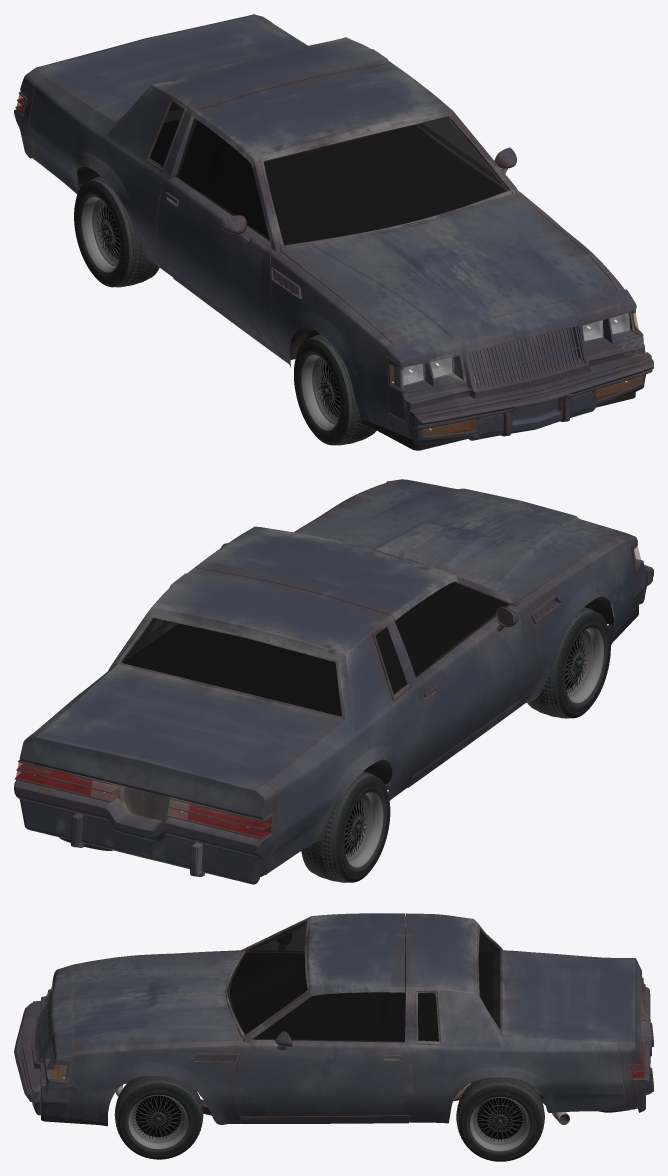
Rendered from 1987_buick_grand_national_regal_gnx.glb.
3 renders of one model, top to bottom at view 1: azimuth 30°, elevation 25°; view 2: azimuth 150°, elevation 25°; view 3: azimuth 270°, elevation 25°, orthographic. The views are drawn at different scales.
Parts seen in each view (by area): view 1: Object_2, Object_24, Object_14, Object_11, Object_3, Object_9, Object_10, Object_28, Object_26, Object_15, Object_8, Object_12 (+6 smaller); view 2: Object_2, Object_3, Object_24, Object_14, Object_6, Object_5, Object_28, Object_26, Object_15, Object_32, Object_11, Object_30 (+2 smaller); view 3: Object_2, Object_24, Object_3, Object_14, Object_29, Object_27, Object_11, Object_33, Object_31, Object_9, Object_8, Object_6 (+7 smaller).
Boxes of the visible parts, x1,y1,x2,y2 form: Object_2: (20,14,624,431); Object_24: (149,102,508,244); Object_14: (150,120,505,245); Object_11: (385,289,645,439); Object_3: (36,14,305,122); Object_9: (409,352,653,443); Object_10: (466,325,585,390); Object_28: (75,188,154,280); Object_26: (295,345,360,438); Object_15: (16,94,643,436); Object_8: (117,108,629,384); Object_12: (165,192,641,393); Object_2: (19,481,634,874); Object_3: (32,664,343,816); Object_24: (122,559,510,716); Object_14: (122,582,507,715); Object_6: (14,780,271,884); Object_5: (14,573,411,839); Object_28: (307,774,388,875); Object_26: (547,610,608,711); Object_15: (16,546,641,837); Object_32: (301,771,390,882); Object_11: (386,479,646,617); Object_30: (527,607,610,718); Object_2: (68,913,641,1124); Object_24: (225,916,500,1042); Object_3: (503,950,641,1056); Object_14: (230,953,493,1041); Object_29: (457,1081,536,1157); Object_27: (116,1078,195,1155); Object_11: (31,965,73,1117); Object_33: (456,1077,544,1161); Object_31: (114,1076,203,1159); Object_9: (14,1001,41,1115); Object_8: (240,918,502,1039); Object_6: (632,987,653,1112).
Size of the model in its own units: 2.19 by 1.54 by 5.31.
Materials: 8 (4 with a texture image).
